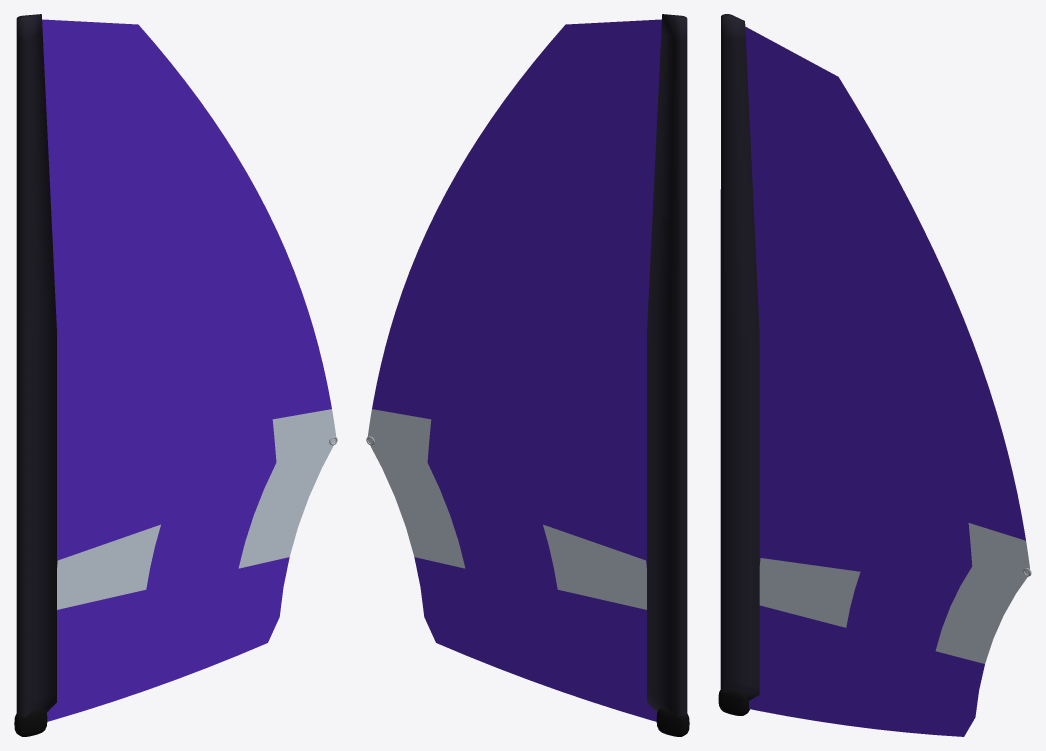
File: gg_sails_slalom_5_7.glb
3 views of the same model, side by side, from view 1: azimuth 30°, elevation 25°; view 2: azimuth 150°, elevation 25°; view 3: azimuth 330°, elevation 25° (orthographic). The views are drawn at different scales.
Visible parts, largest first — view 1: SailCloth, TackFairing; view 2: SailCloth, TackFairing; view 3: SailCloth, TackFairing.
Part boxes in pixels (x1,y1,x2,y2): SailCloth: (16,14,336,721); TackFairing: (14,708,47,736); SailCloth: (367,14,687,721); TackFairing: (656,708,689,736); SailCloth: (720,14,1029,736); TackFairing: (718,690,749,715).
Size of the model in its own units: 1.92 by 4.11 by 0.08.
